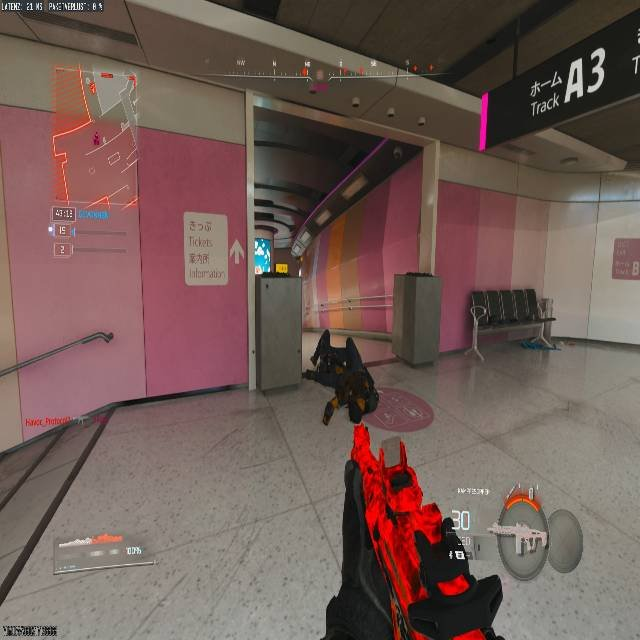player: (303, 331, 380, 426)
